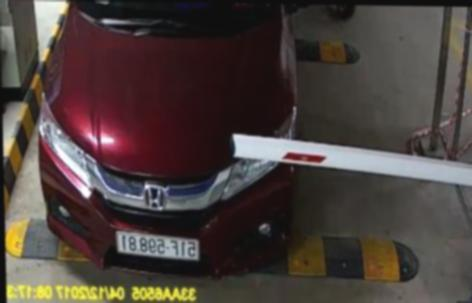License_Plate: (108, 229, 203, 262)
